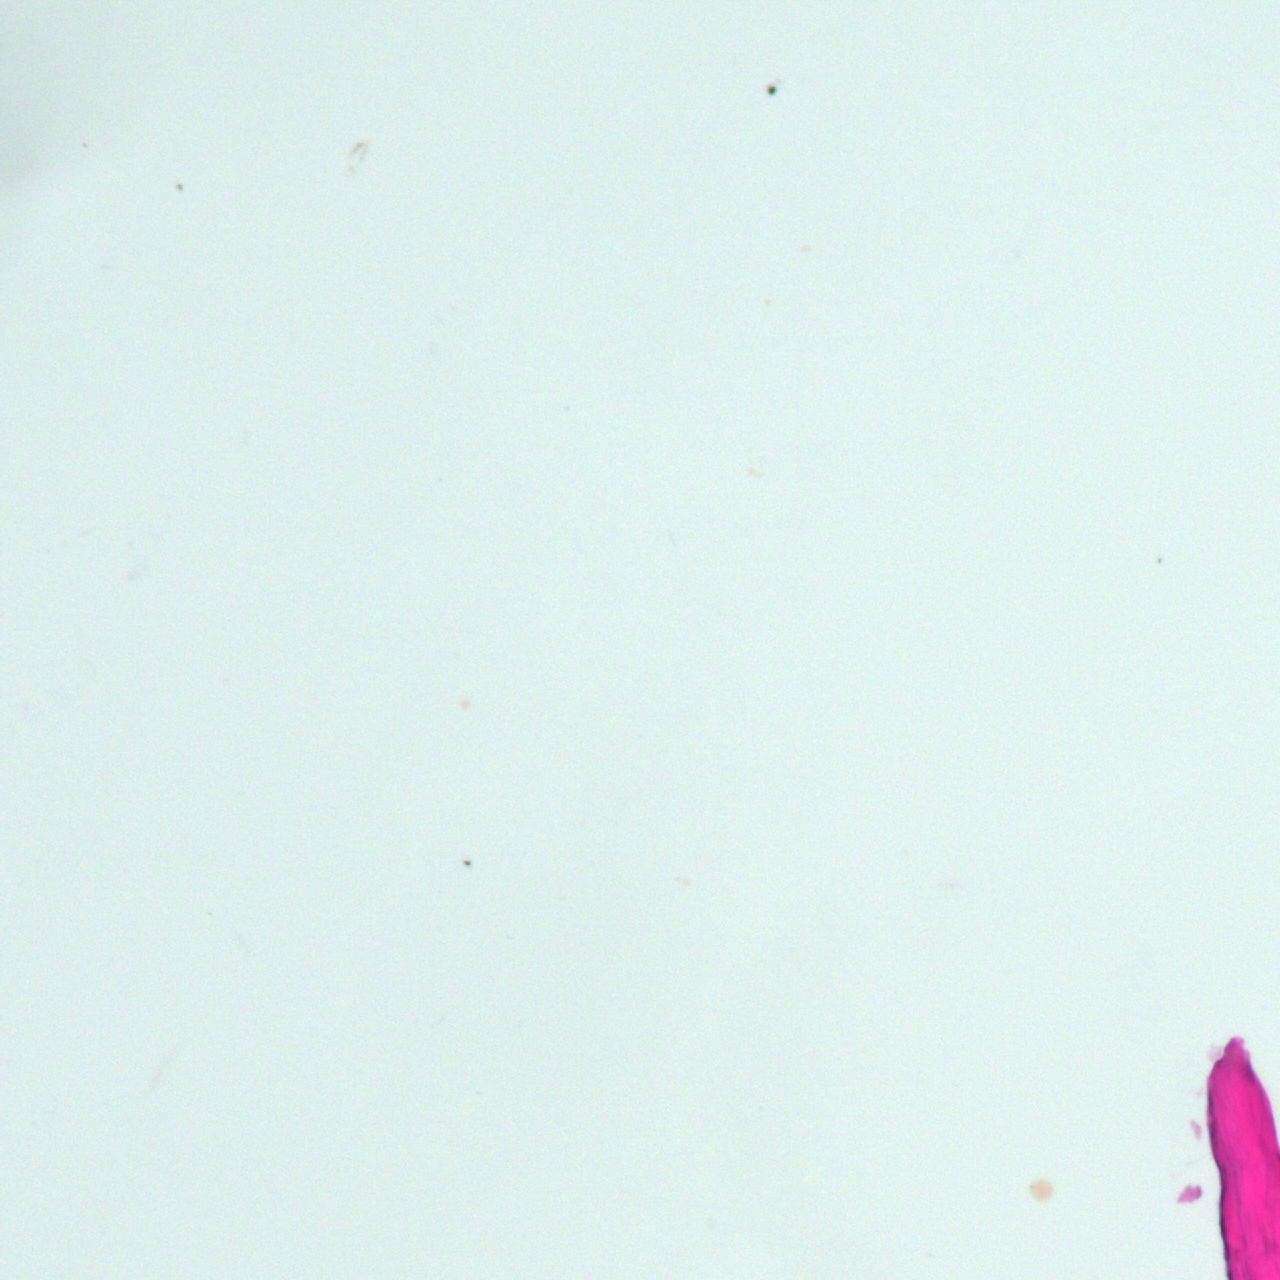dust: (1029, 1177, 1051, 1203), (353, 142, 368, 159), (766, 86, 776, 96), (175, 182, 184, 191), (799, 244, 809, 252), (764, 298, 771, 305)
